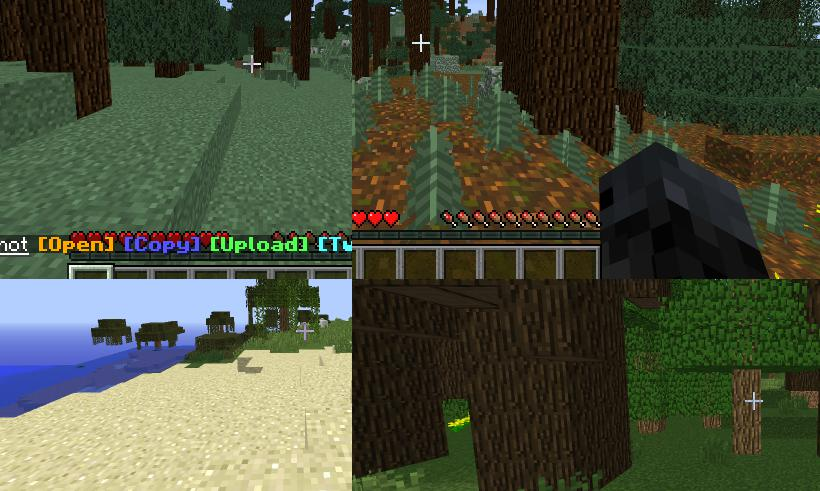minecraft-blocks: (484, 280, 597, 491), (353, 293, 467, 467), (509, 1, 622, 162), (8, 1, 116, 114), (732, 369, 761, 456), (292, 1, 314, 80), (409, 1, 432, 76), (801, 280, 820, 323), (704, 417, 723, 434), (281, 308, 290, 333)
